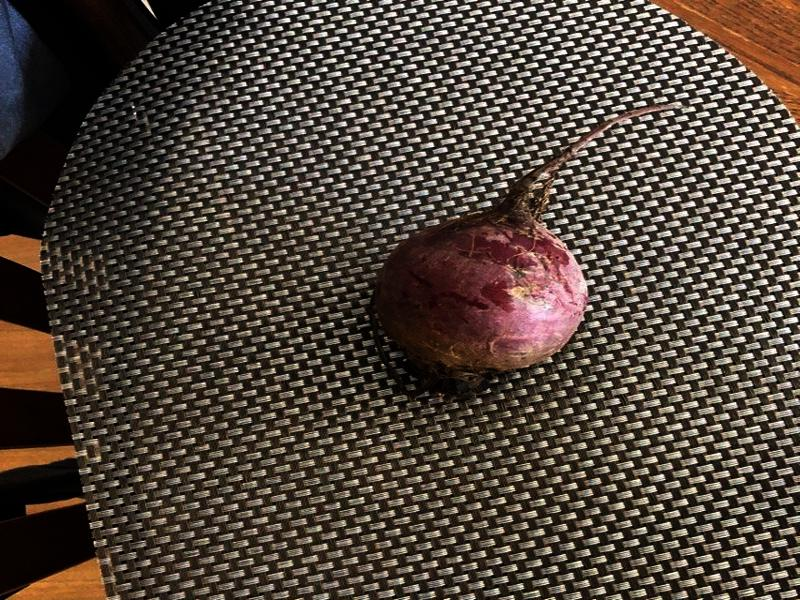Beet: (372, 101, 682, 400)
